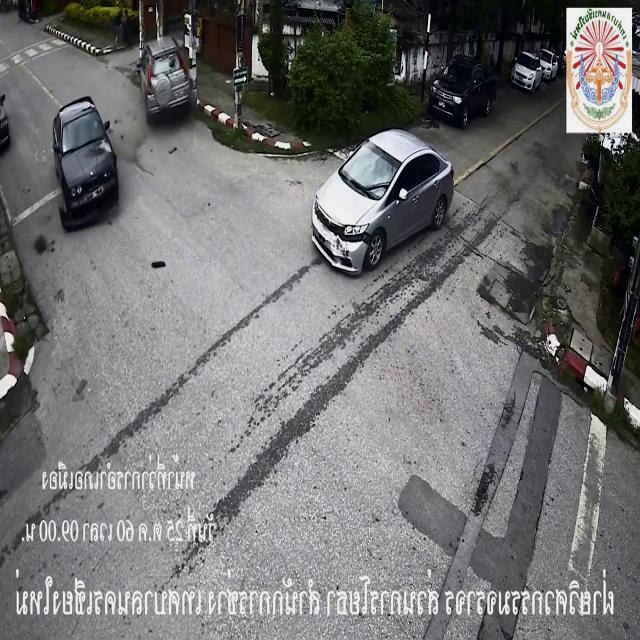accident: (51, 36, 455, 278), (50, 37, 200, 231)
non-accident: (509, 44, 559, 94)
